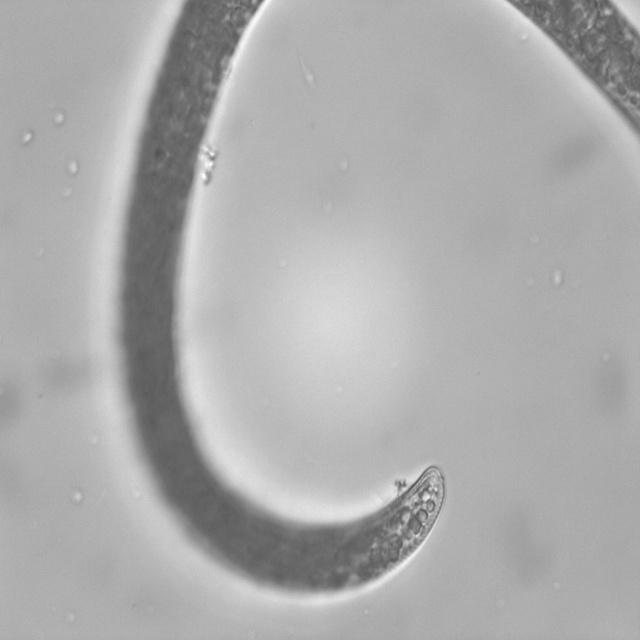Helicotylenchus: (339, 439, 466, 596)
